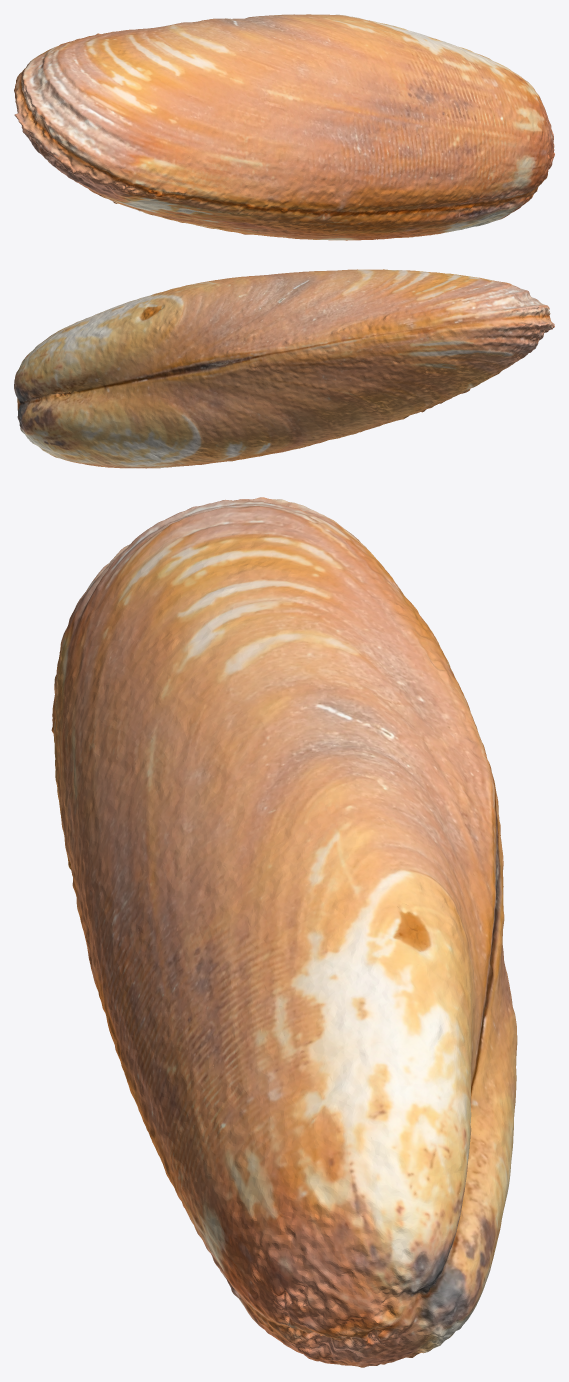
The model's file is MZUR3D-039.glb.
3 views of the same model, one above another, from view 1: azimuth 30°, elevation 25°; view 2: azimuth 150°, elevation 25°; view 3: azimuth 270°, elevation 25° (orthographic). The views are drawn at different scales.
Visible parts, largest first — view 1: MZUR3D-039; view 2: MZUR3D-039; view 3: MZUR3D-039.
Boxes of the visible parts, bbox=[...] form: MZUR3D-039: bbox=[14, 14, 554, 240]; MZUR3D-039: bbox=[14, 269, 554, 468]; MZUR3D-039: bbox=[51, 497, 517, 1367].
Size of the model in its own units: 0.5043 by 0.2374 by 0.2087.
Materials: 1 (1 with a texture image).
